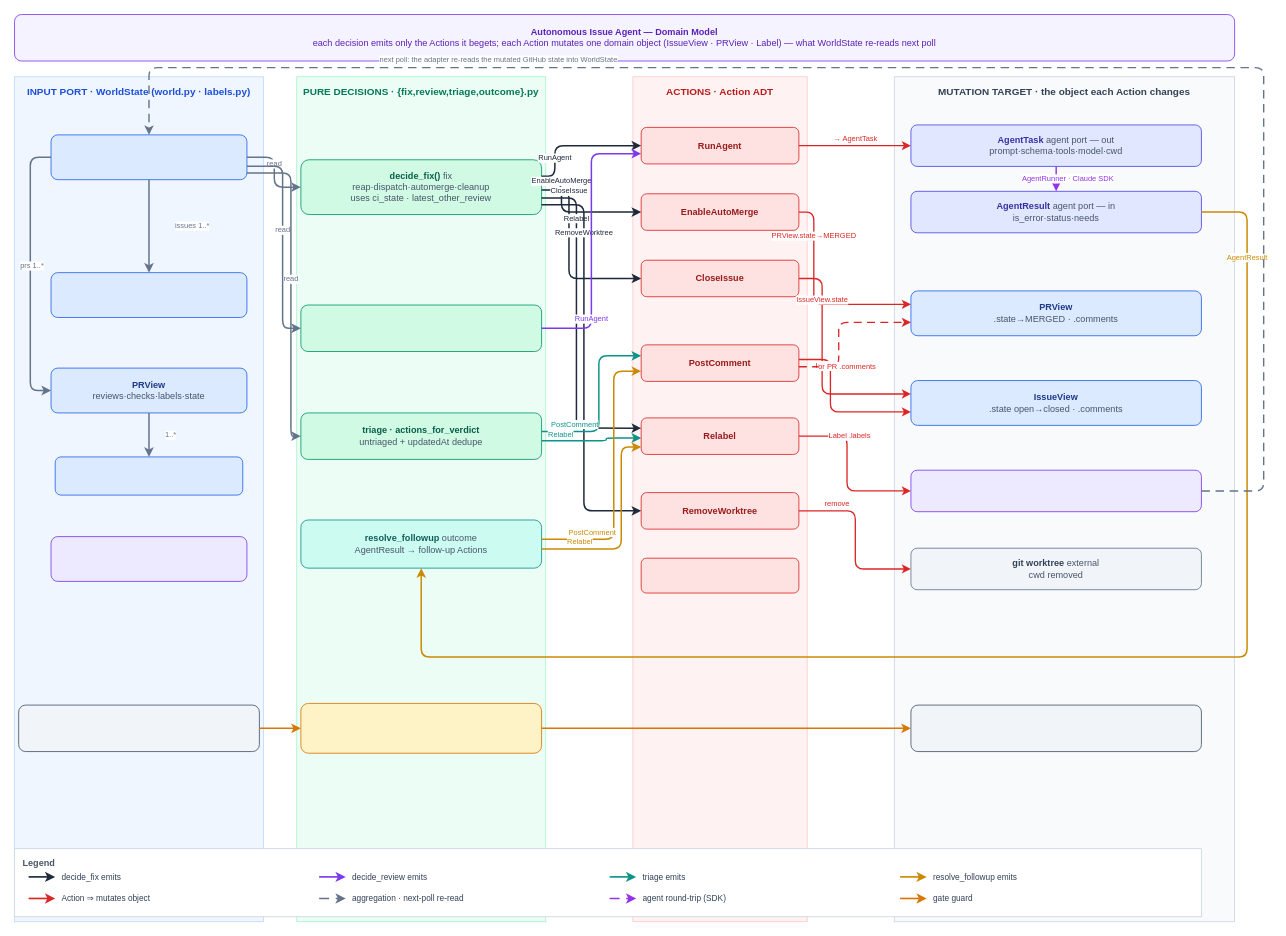
Image size: 1286x936. Some labels were removed from this diagram. The shapes that lost their labels are listed below. From the top down, each one's centre as x and y in pixels, then its label:
point 148,157: WorldState issues[] · prs[]
point 148,294: IssueView labels·comments·state
point 421,328: decide_review() review initial / re-review on SHA
point 148,475: Review·Check·Comment leaf VOs
point 1055,490: Label on Issue/PR .labels remove / add
point 148,558: Label enum ai-ready→working→…
point 719,575: NoOp
point 138,728: command + GateContext branch·log·diff·markers·test cmd
point 421,728: gate check-*.sh, pure branch·TDD·PR body·red-fail·suppression
point 1055,728: Allow | Deny(reason) shown to the agent
